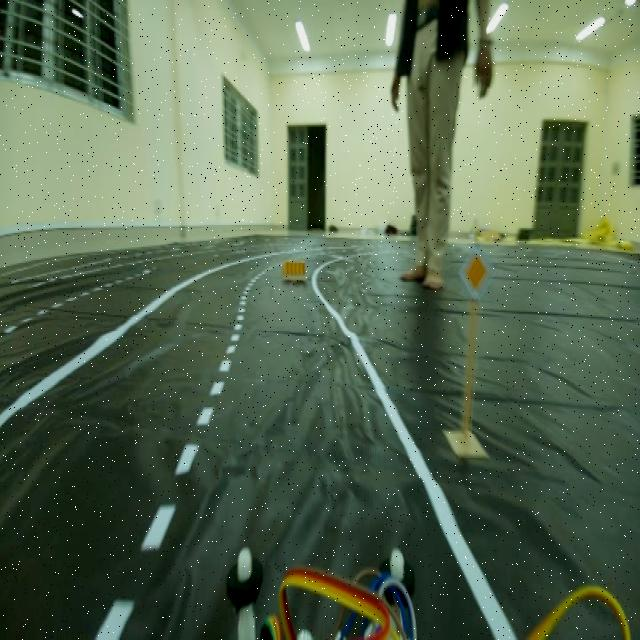priority: (459, 235, 494, 312)
roadblock: (278, 256, 312, 292)
